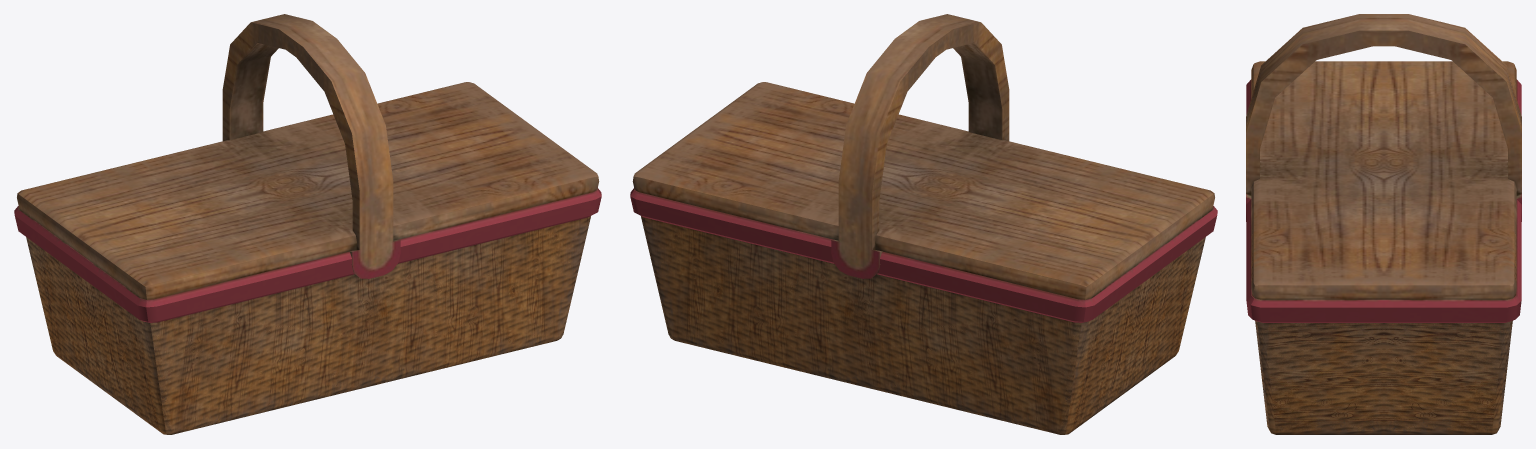
The model's file is picnic_basket.glb.
The picture shows the model from 3 angles, left to right: view 1: azimuth 30°, elevation 25°; view 2: azimuth 150°, elevation 25°; view 3: azimuth 270°, elevation 25°; orthographic projection.
Parts seen in each view (by area): view 1: pCube3; view 2: pCube3; view 3: pCube3.
Part boxes in pixels (x1,y1,x2,y2): pCube3: [14, 14, 601, 434]; pCube3: [630, 14, 1217, 434]; pCube3: [1246, 14, 1521, 434].
Size of the model in its own units: 424 by 275 by 217.
Materials: 1 (1 with a texture image).
